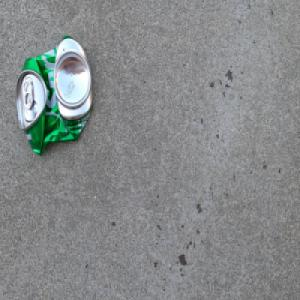SodaCan: (14, 33, 93, 157)
